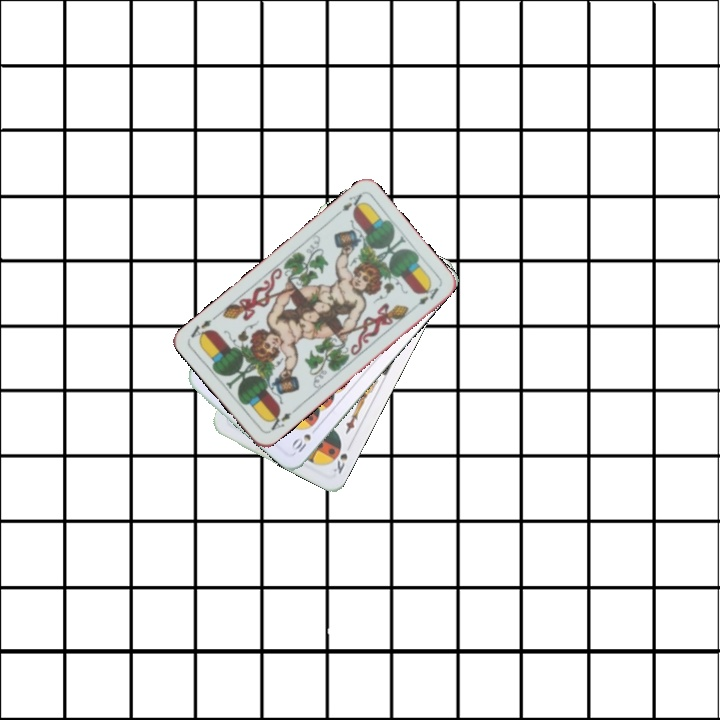EA: (264, 404, 299, 435), (331, 190, 366, 219)
S10: (288, 430, 314, 456)
SK: (328, 449, 350, 477)
